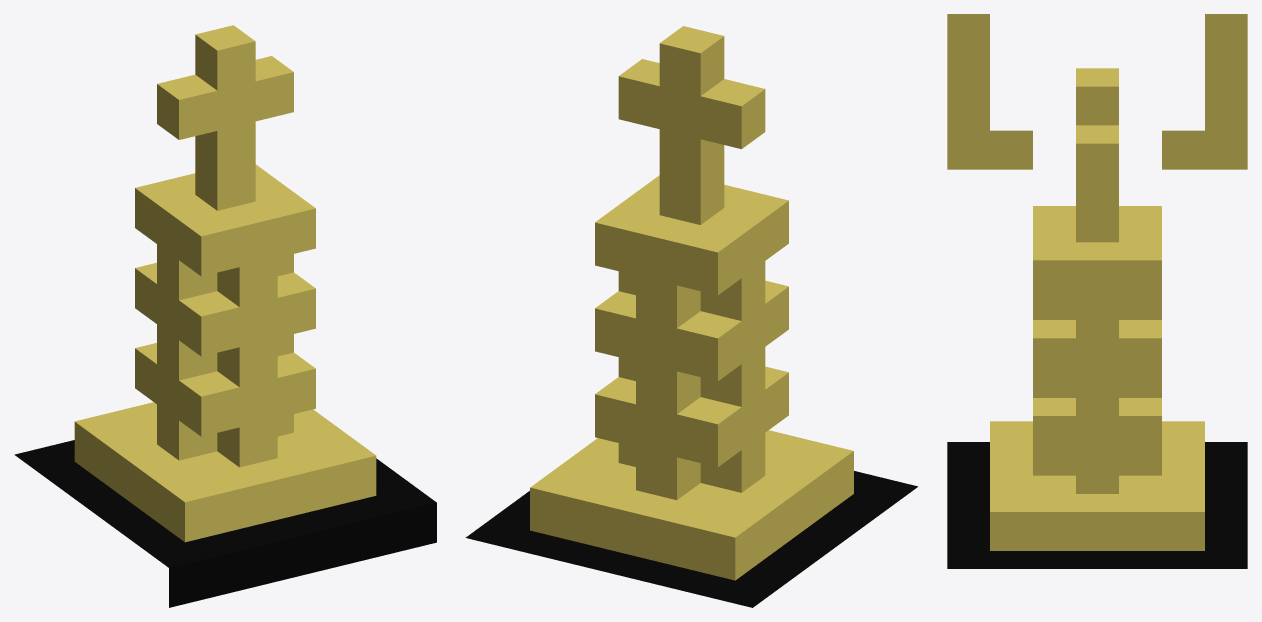
File: queen-b.glb
3 views of the same model, side by side, from view 1: azimuth 30°, elevation 25°; view 2: azimuth 150°, elevation 25°; view 3: azimuth 270°, elevation 25° (orthographic). The views are drawn at different scales.
Parts seen in each view (by area): view 1: root; view 2: root; view 3: root.
Part boxes in pixels (left/top/right/bottom): root: left=14, top=25, right=436, bottom=607; root: left=465, top=26, right=918, bottom=607; root: left=947, top=14, right=1247, bottom=568.
Size of the model in its own units: 1 by 1.71 by 1.
1 material, 1 textured.
